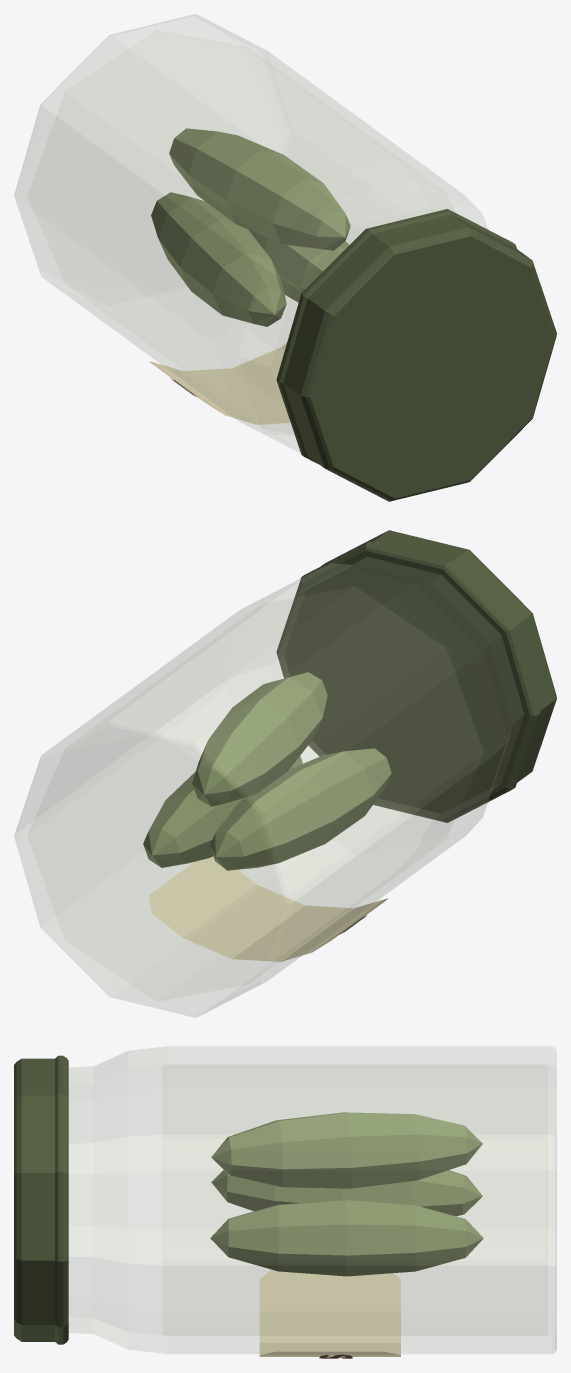
File: pickles_jar.glb
3 renders of one model, top to bottom at view 1: azimuth 30°, elevation 25°; view 2: azimuth 150°, elevation 25°; view 3: azimuth 270°, elevation 25°, orthographic. The views are drawn at different scales.
Parts seen in each view (by area): view 1: pickles_jar; view 2: pickles_jar; view 3: pickles_jar.
Boxes of the visible parts, x1,y1,x2,y2 form: pickles_jar: [14, 14, 556, 501]; pickles_jar: [14, 530, 556, 1017]; pickles_jar: [14, 1046, 556, 1358].
Bounding box in the file's own units: 0.068 × 0.0671 × 0.119.
